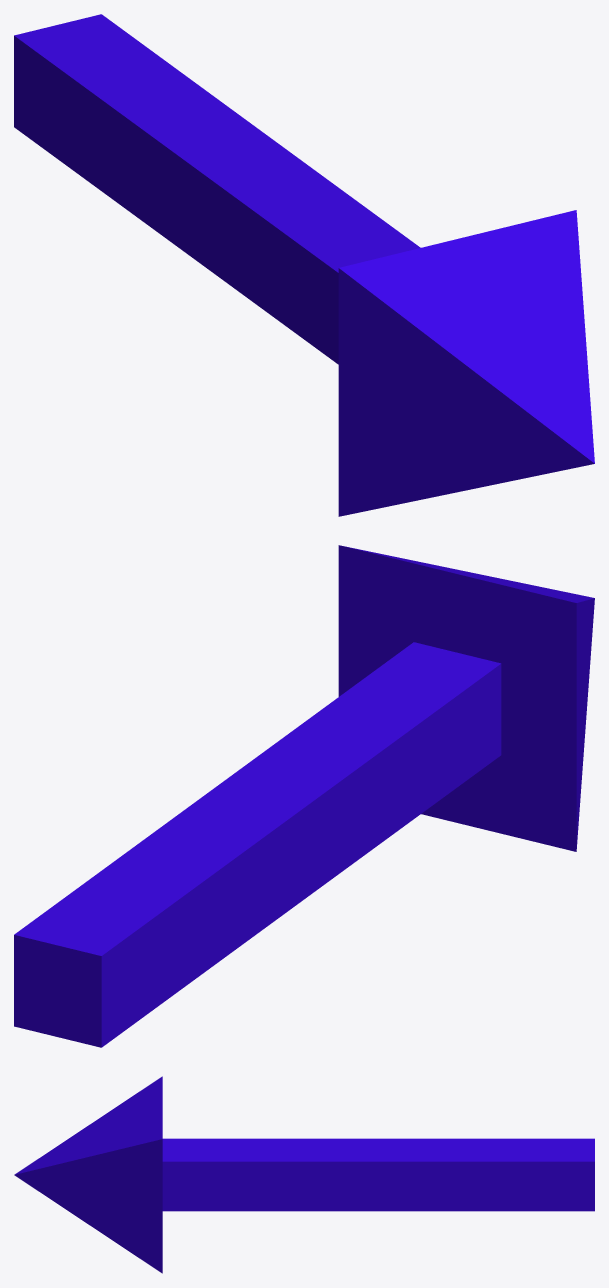
The model's file is bullet.gltf.
The picture shows the model from 3 angles, top to bottom: view 1: azimuth 30°, elevation 25°; view 2: azimuth 150°, elevation 25°; view 3: azimuth 270°, elevation 25°; orthographic projection. The views are drawn at different scales.
Visible parts, largest first — view 1: Cube; view 2: Cube; view 3: Cube.
Part boxes in pixels (bbox=[...]): Cube: bbox=[14, 14, 594, 516]; Cube: bbox=[14, 545, 594, 1047]; Cube: bbox=[14, 1076, 594, 1273].
Size of the model in its own units: 0.3542 by 0.3542 by 1.39.
